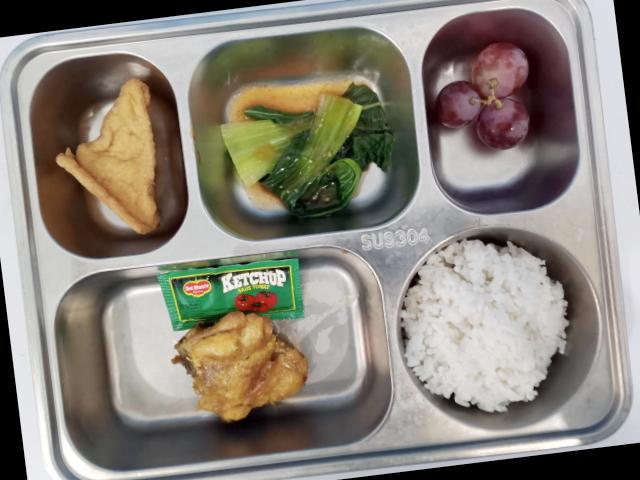ayam: (172, 312, 308, 421)
buah: (471, 43, 529, 149)
nasi: (402, 240, 568, 412)
sayur: (221, 84, 395, 216)
tahu: (57, 79, 160, 234)
